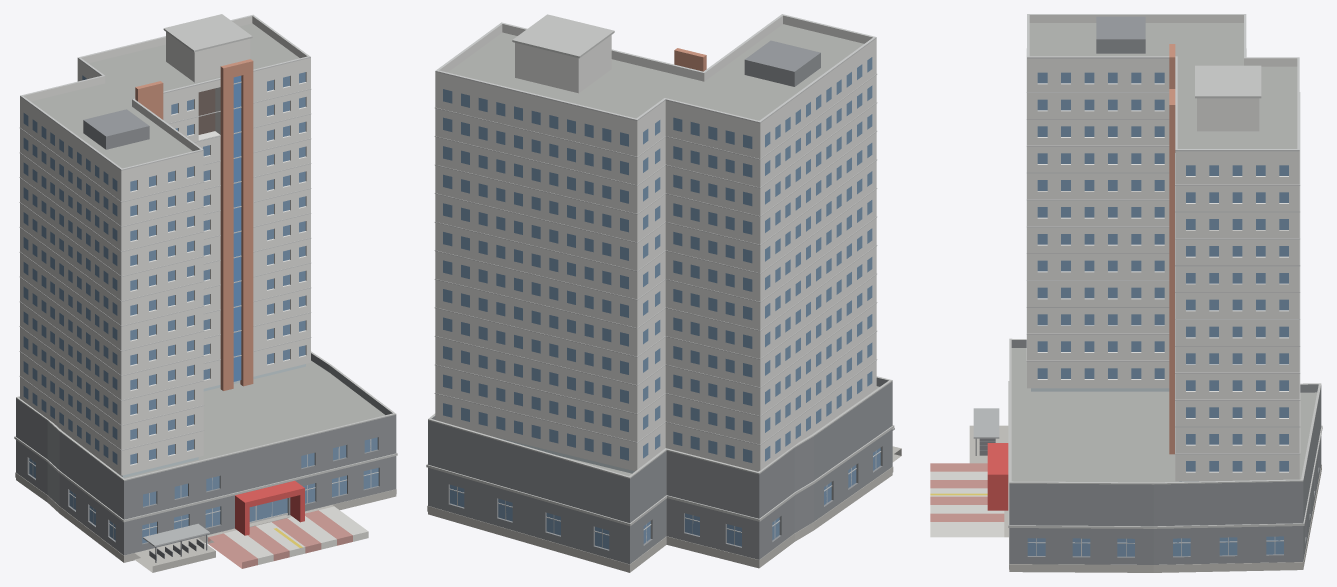
3 views of the same model, side by side, from view 1: azimuth 30°, elevation 25°; view 2: azimuth 150°, elevation 25°; view 3: azimuth 270°, elevation 25° (orthographic). The views are drawn at different scales.
Parts seen in each view (by area): view 1: D9H white panel cladding, D9H dark grey podium, D9H grey roof, D9H blue window glass, D9H red brick frames, D9H grey panel joints, D9H podium light coping, D9H granite plinth and paving, D9H red checker paving, D9H blue stair slot glass, D9H pale checker paving, D9H red entrance portal (+4 smaller); view 2: D9H white panel cladding, D9H dark grey podium, D9H blue window glass, D9H grey roof, D9H grey panel joints, D9H podium light coping, D9H granite plinth and paving; view 3: D9H white panel cladding, D9H grey roof, D9H dark grey podium, D9H blue window glass, D9H grey panel joints, D9H podium light coping, D9H granite plinth and paving, D9H pale checker paving, D9H red brick frames, D9H red checker paving, D9H red entrance portal, D9H bike shelter roof (+1 smaller).
Boxes of the visible parts, bbox=[...] form: D9H white panel cladding: bbox=[20, 16, 310, 475]; D9H dark grey podium: bbox=[16, 109, 396, 555]; D9H grey roof: bbox=[31, 23, 385, 478]; D9H blue window glass: bbox=[23, 72, 378, 543]; D9H red brick frames: bbox=[135, 59, 253, 390]; D9H grey panel joints: bbox=[19, 14, 311, 450]; D9H podium light coping: bbox=[14, 14, 397, 522]; D9H granite plinth and paving: bbox=[15, 472, 396, 572]; D9H red checker paving: bbox=[208, 510, 352, 568]; D9H blue stair slot glass: bbox=[233, 75, 241, 381]; D9H pale checker paving: bbox=[224, 506, 368, 564]; D9H red entrance portal: bbox=[235, 480, 304, 535]; D9H white panel cladding: bbox=[435, 15, 876, 471]; D9H dark grey podium: bbox=[428, 40, 892, 564]; D9H blue window glass: bbox=[443, 57, 880, 549]; D9H grey roof: bbox=[448, 24, 879, 475]; D9H grey panel joints: bbox=[434, 14, 877, 445]; D9H podium light coping: bbox=[426, 14, 894, 526]; D9H granite plinth and paving: bbox=[427, 446, 901, 572]; D9H white panel cladding: bbox=[1027, 15, 1299, 481]; D9H grey roof: bbox=[1011, 23, 1317, 482]; D9H dark grey podium: bbox=[1009, 16, 1321, 564]; D9H blue window glass: bbox=[1027, 72, 1288, 556]; D9H grey panel joints: bbox=[1026, 14, 1300, 454]; D9H podium light coping: bbox=[1008, 65, 1322, 528]; D9H granite plinth and paving: bbox=[969, 425, 1321, 572]; D9H pale checker paving: bbox=[930, 471, 1004, 537]; D9H red brick frames: bbox=[1169, 44, 1175, 454]; D9H red checker paving: bbox=[930, 463, 1004, 521]; D9H red entrance portal: bbox=[987, 443, 1008, 510]; D9H bike shelter roof: bbox=[973, 408, 999, 438].
Size of the model in its own units: 34.87 by 49.7 by 39.71.
